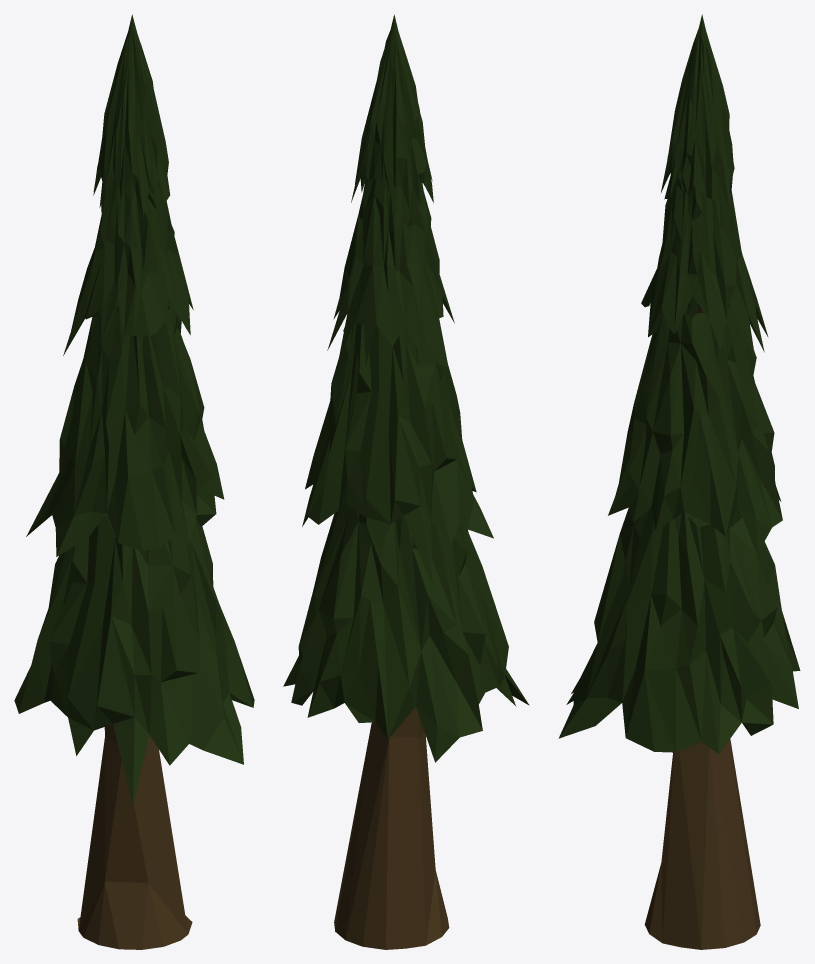
The model's file is pino-2_lowpoly.fbx.
3 renders of one model, left to right at view 1: azimuth 30°, elevation 25°; view 2: azimuth 150°, elevation 25°; view 3: azimuth 270°, elevation 25°, orthographic.
Visible parts, largest first — view 1: Cylinder.020, Cylinder.021, Cylinder.016, Cylinder.024, Cylinder.023; view 2: Cylinder.020, Cylinder.021, Cylinder.016, Cylinder.024, Cylinder.023; view 3: Cylinder.020, Cylinder.021, Cylinder.016, Cylinder.024, Cylinder.023.
Boxes of the visible parts, x1=… form: Cylinder.020: x1=14, y1=513, x2=254, y2=805; Cylinder.021: x1=26, y1=298, x2=224, y2=556; Cylinder.016: x1=77, y1=307, x2=192, y2=949; Cylinder.024: x1=63, y1=176, x2=193, y2=355; Cylinder.023: x1=93, y1=14, x2=170, y2=216; Cylinder.020: x1=283, y1=506, x2=529, y2=762; Cylinder.021: x1=302, y1=323, x2=493, y2=585; Cylinder.016: x1=334, y1=707, x2=449, y2=949; Cylinder.024: x1=327, y1=176, x2=454, y2=367; Cylinder.023: x1=351, y1=14, x2=433, y2=209; Cylinder.020: x1=558, y1=506, x2=800, y2=754; Cylinder.021: x1=608, y1=296, x2=782, y2=552; Cylinder.016: x1=644, y1=304, x2=760, y2=949; Cylinder.024: x1=641, y1=166, x2=768, y2=360; Cylinder.023: x1=660, y1=14, x2=734, y2=214.
Bounding box in the file's own units: 1184 × 5074 × 1220.
